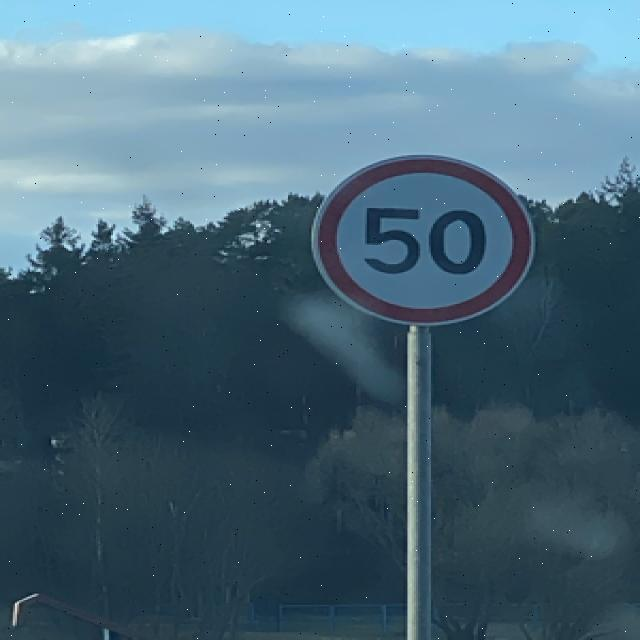speed limit 50: (312, 153, 535, 327)
